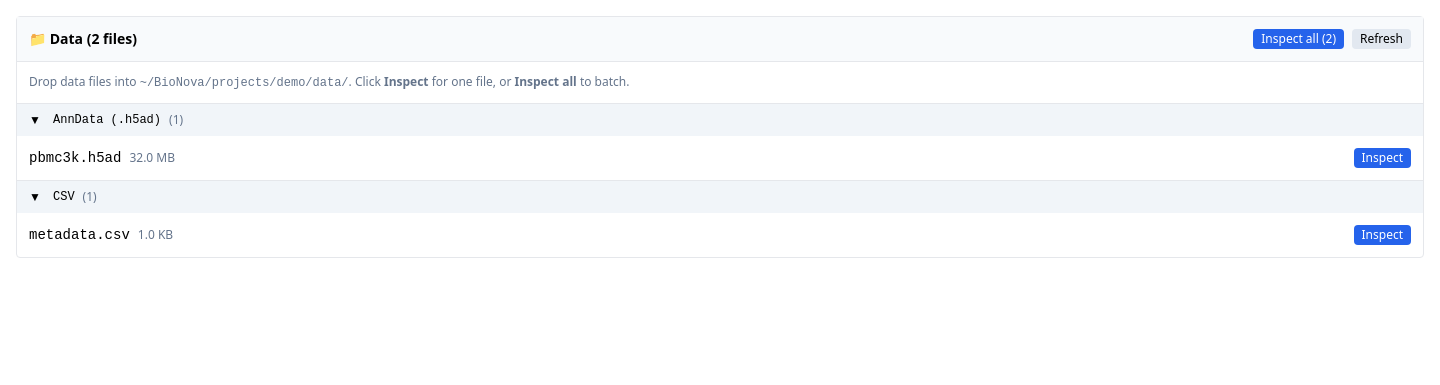
Test: DataPanel › CSV report shows preview table rows
The image size is (1440, 385).
Check: the text "metadata.csv" is shown, box [29,225,130,245]
What coordinates should you click on to do the following:
click the button with test id "data-inspect-metadata.csv"
I would click on:
 (1382, 235)
Its box is [1354,225,1411,245].
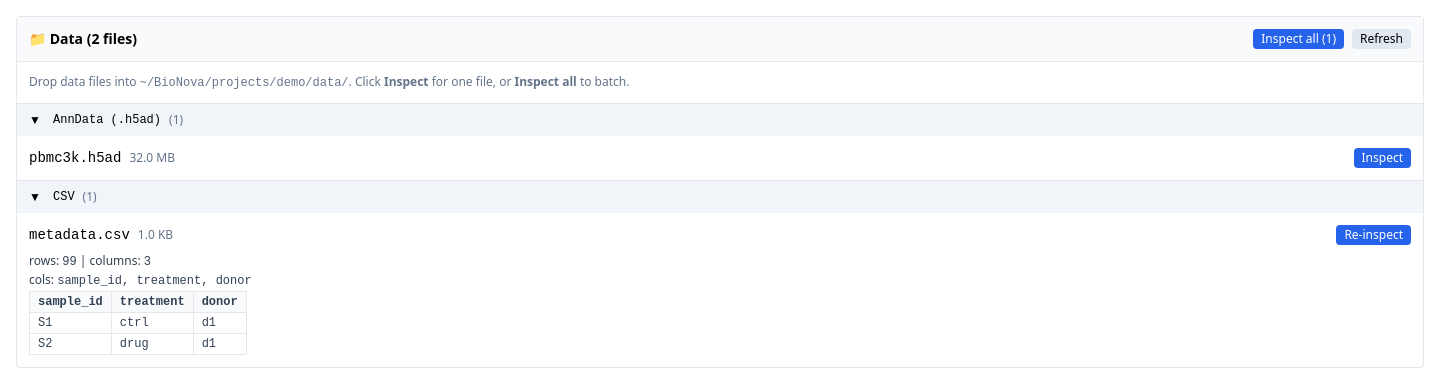
Check: the element with test id "preview-table" is shown, box [30,292,246,354]
Check: the text "ctrl" is shown, box [111,312,193,334]
Check: the text "drug" is shown, box [111,334,193,354]
